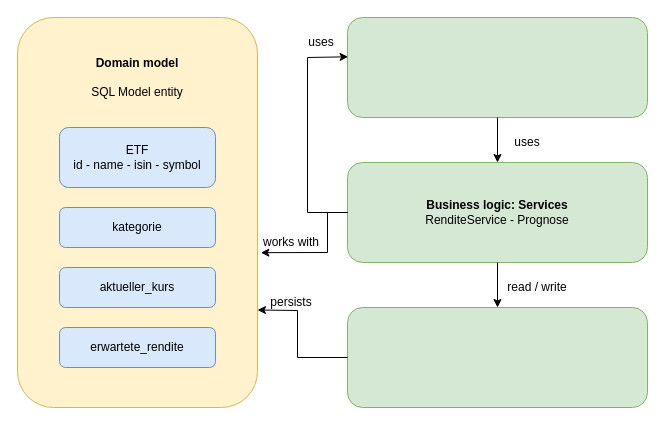
The diagram is 665 pixels wide and 425 high, and some of its shapes have lost their labels. Each missing label, with the box of its shape:
DAO/DB: Data access ETFDAO - database.py - etf.db: (346, 306, 648, 408)
UI: NiceGUI pages etf_view - detail_view - vergleich_view: (346, 16, 648, 118)
